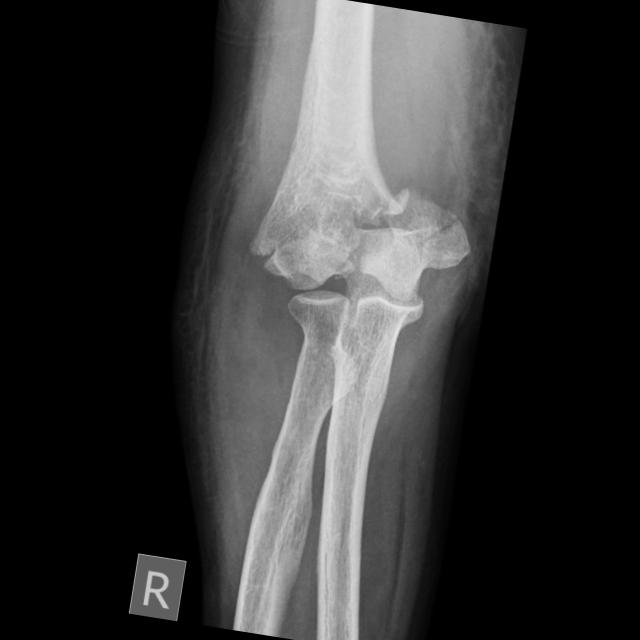elbow positive: (236, 224, 305, 290)
